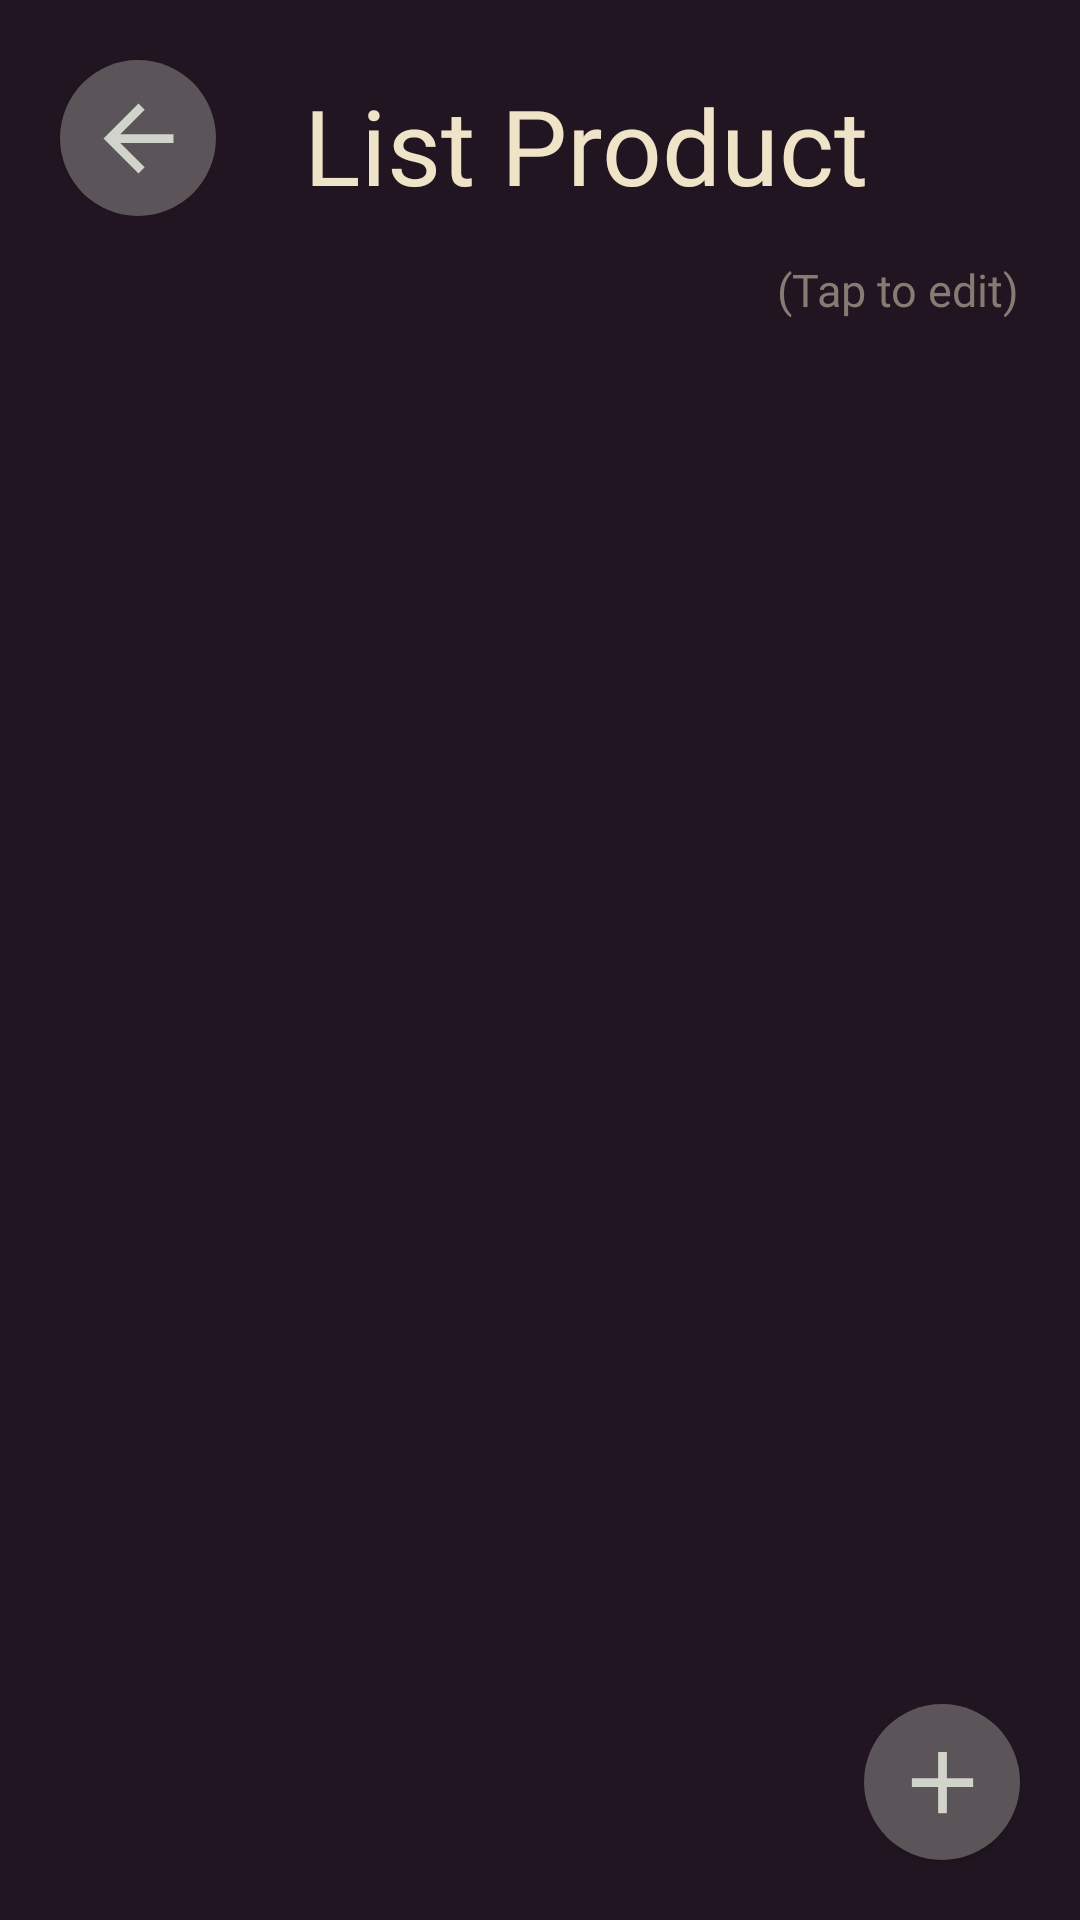

Where icons sit on this 1080px×1920px app screen, as {"x1": x1, "y1": y1, "x2": x2, "y2": y2}:
add: {"x1": 864, "y1": 1704, "x2": 1020, "y2": 1860}
back: {"x1": 60, "y1": 60, "x2": 216, "y2": 216}
